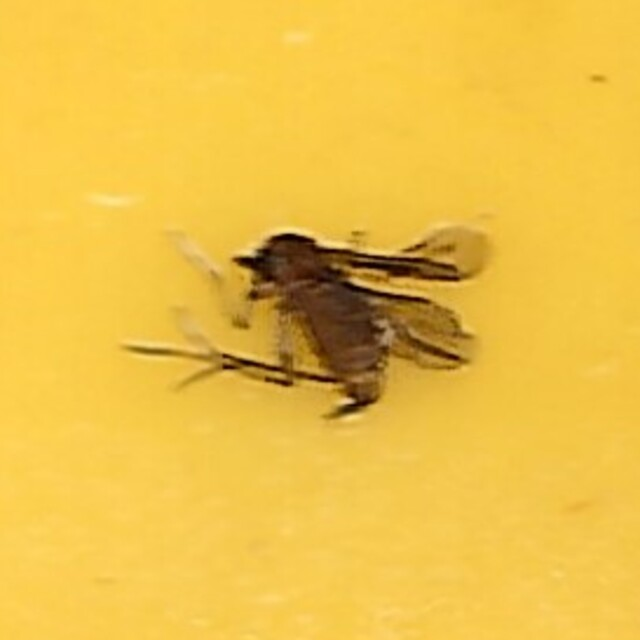Nematocera: (234, 218, 406, 422)
